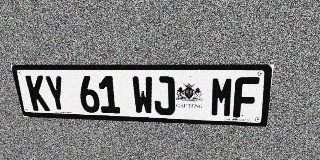1: (97, 76, 120, 114)
6: (77, 76, 101, 113)
F: (233, 77, 260, 118)
J: (153, 76, 175, 115)
K: (25, 75, 50, 111)
M: (210, 77, 235, 117)
W: (131, 76, 154, 115)
Y: (43, 75, 68, 112)
